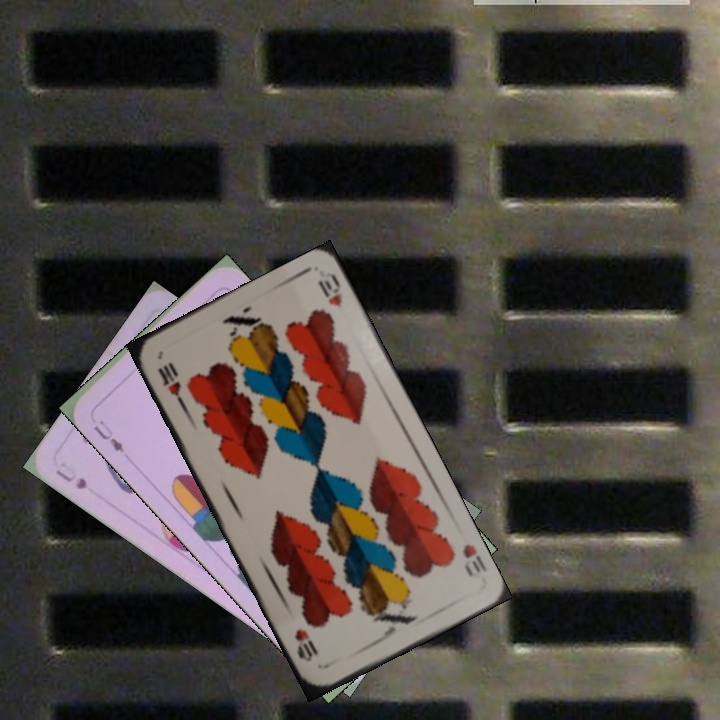EU: (89, 416, 127, 456)
H10: (153, 359, 189, 410), (458, 539, 489, 580)
SU: (51, 464, 90, 492)
